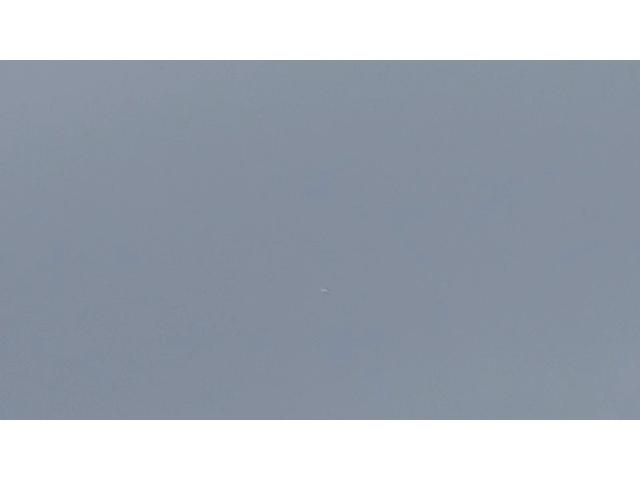Anti-Drone: (319, 286, 331, 294)
